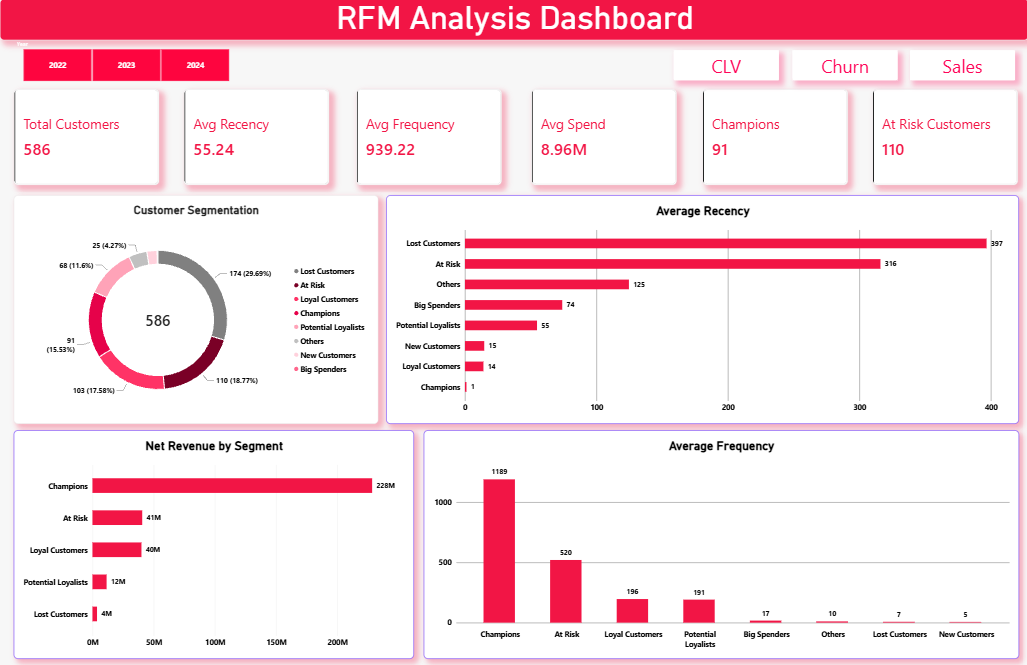

Layout of this report page (visuals, bound fields, positions):
{"tool":"powerbi","page":{"name":"RFM","canvas":[2560,1440],"ordinal":3},"visuals":[{"type":"shape","title":"RFM Analysis Dashboard","box":[0,0,1920,76.7],"z":0},{"type":"cardVisual","fields":{"Data":["cleanfile.Total_customers"]},"box":[24.9,168.6,271.4,179.2],"z":1000},{"type":"cardVisual","fields":{"Data":["cleanfile.Avg Days Since Last Order"]},"box":[343.3,168.6,271.4,179.2],"z":2000},{"type":"cardVisual","fields":{"Data":["cleanfile.Avg Frequency"]},"box":[664.9,168.6,271.4,179.2],"z":3000},{"type":"cardVisual","fields":{"Data":["cleanfile.Avg Monetary Value"]},"box":[989.9,168.6,271.4,179.2],"z":4000},{"type":"cardVisual","fields":{"Data":["cleanfile.Champions Count"]},"box":[1309.9,168.6,271.4,179.2],"z":5000},{"type":"cardVisual","fields":{"Data":["cleanfile.At Risk Count"]},"box":[1628.3,168.6,271.4,179.2],"z":6000},{"type":"donutChart","title":"Customer Segmentation","fields":{"Category":["cleanfile.Customer Segment"],"Y":["cleanfile.Total_customers"]},"box":[24.9,366.9,680,426.7],"z":7000},{"type":"clusteredBarChart","title":"Average Recency","fields":{"Category":["cleanfile.Customer Segment"],"Y":["Avg(cleanfile.DaysSinceLastPurchase)"]},"box":[719.9,366.9,1180,426.7],"z":8000},{"type":"clusteredBarChart","title":"Net Revenue by Segment","fields":{"Category":["cleanfile.Customer Segment"],"Y":["cleanfile.Net_sales"]},"box":[24.9,803.6,746.7,426.7],"z":9000},{"type":"clusteredColumnChart","title":"Average Frequency","fields":{"Category":["cleanfile.Customer Segment"],"Y":["Avg(cleanfile.Frequency_Count)"]},"box":[789.9,803.6,1110,426.7],"z":10000},{"type":"slicer","fields":{"Values":["DateTable.Year"]},"box":[24,76,423.3,78.3],"z":11000},{"type":"actionButton","title":"Sales Dashboard","box":[1257.2,95.2,196,56],"z":12000},{"type":"actionButton","title":"Sales Dashboard","box":[1697.2,95.2,196,56],"z":13000},{"type":"actionButton","title":"Sales Dashboard","box":[1477.2,95.2,196,56],"z":14000}]}

Visuals, with their boxes on the page's 2560x1440 design canvas (x1, y1, x2, y2). These are canvas units, not pixel positions in the 1027x665 screenshot, which may show the page scaled, cropped or inside an application window:
"RFM Analysis Dashboard" shape: select_region(0, 0, 1920, 77)
cardVisual - cleanfile.Total_customers: select_region(25, 169, 296, 348)
cardVisual - cleanfile.Avg Days Since Last Order: select_region(343, 169, 615, 348)
cardVisual - cleanfile.Avg Frequency: select_region(665, 169, 936, 348)
cardVisual - cleanfile.Avg Monetary Value: select_region(990, 169, 1261, 348)
cardVisual - cleanfile.Champions Count: select_region(1310, 169, 1581, 348)
cardVisual - cleanfile.At Risk Count: select_region(1628, 169, 1900, 348)
"Customer Segmentation" donutChart: select_region(25, 367, 705, 794)
"Average Recency" clusteredBarChart: select_region(720, 367, 1900, 794)
"Net Revenue by Segment" clusteredBarChart: select_region(25, 804, 772, 1230)
"Average Frequency" clusteredColumnChart: select_region(790, 804, 1900, 1230)
slicer - DateTable.Year: select_region(24, 76, 447, 154)
"Sales Dashboard" actionButton: select_region(1257, 95, 1453, 151)
"Sales Dashboard" actionButton: select_region(1697, 95, 1893, 151)
"Sales Dashboard" actionButton: select_region(1477, 95, 1673, 151)
